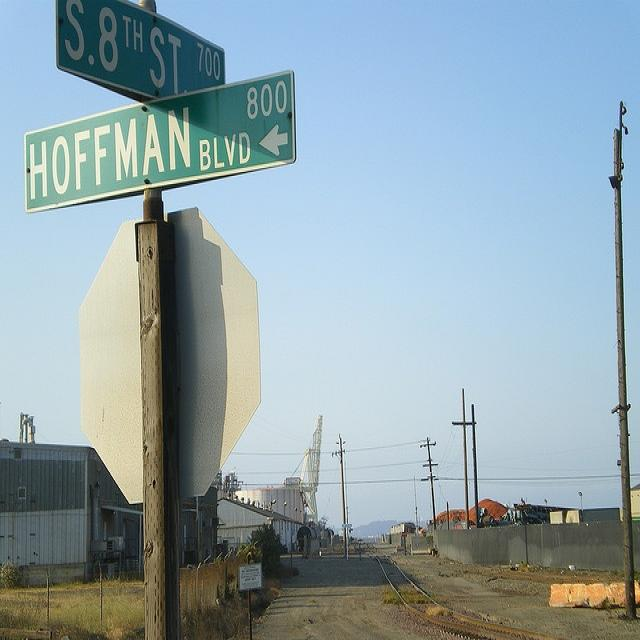pole: (131, 184, 189, 633), (607, 128, 636, 617), (469, 401, 481, 524), (460, 386, 470, 526), (337, 435, 348, 557), (425, 433, 436, 528)
